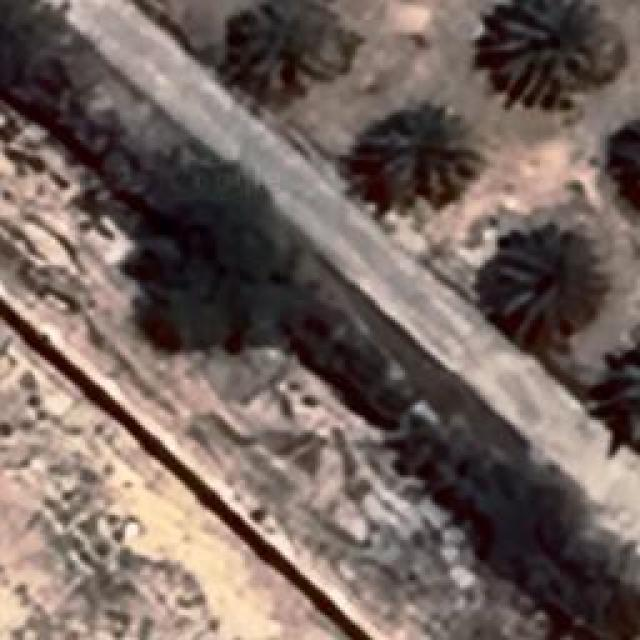PalmTree: (478, 218, 612, 356), (355, 108, 483, 210), (225, 0, 348, 95), (487, 0, 600, 102), (0, 0, 72, 92), (592, 350, 640, 443), (604, 120, 640, 213)
